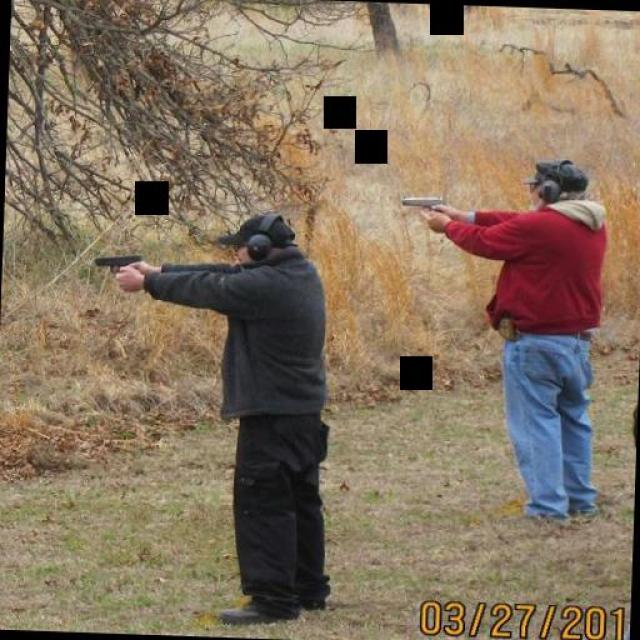gun: (394, 178, 450, 228), (84, 244, 145, 280)
